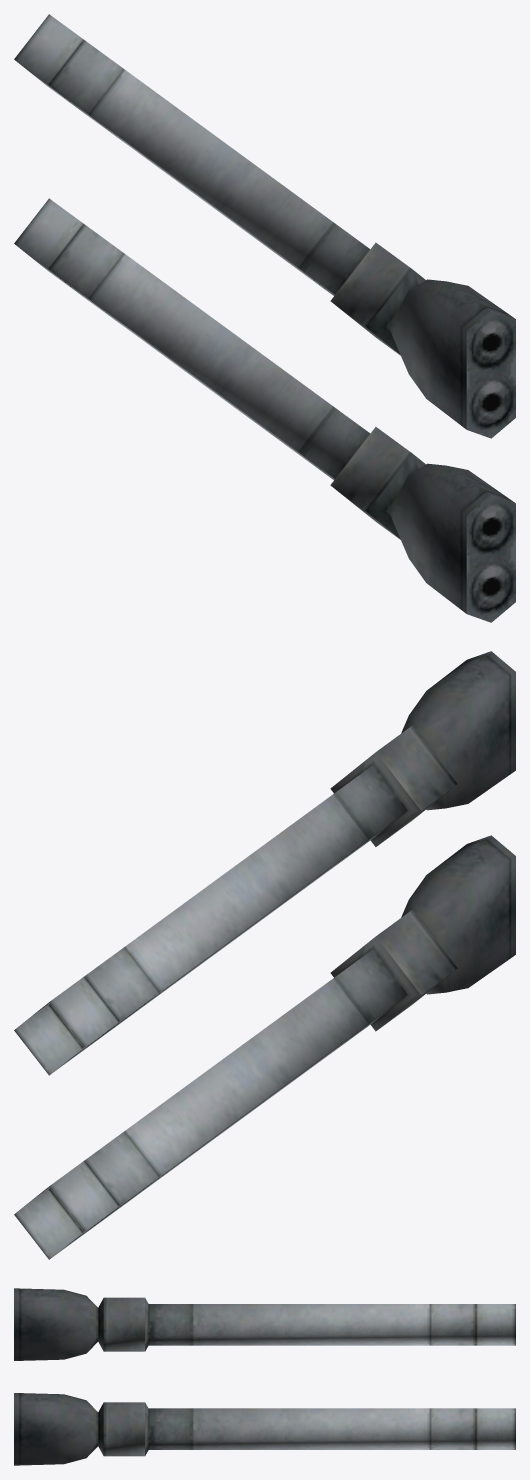
File: vt49_turret_barrel_s01_l1.fbx
The picture shows the model from 3 angles, top to bottom: view 1: azimuth 30°, elevation 25°; view 2: azimuth 150°, elevation 25°; view 3: azimuth 270°, elevation 25°; orthographic projection. The views are drawn at different scales.
Visible parts, largest first — view 1: mesh_node; view 2: mesh_node; view 3: mesh_node.
Boxes of the visible parts, left/top/right/bottom form: mesh_node: left=14, top=14, right=515, bottom=622; mesh_node: left=14, top=651, right=515, bottom=1259; mesh_node: left=14, top=1288, right=515, bottom=1465.
Bounding box in the file's own units: 0.201 × 0.6596 × 1.69.
